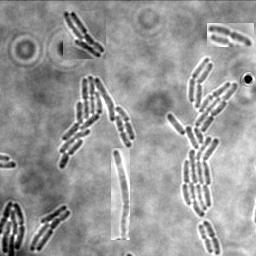Dividing: (111, 148, 130, 240), (207, 23, 254, 47), (204, 219, 222, 255), (199, 223, 215, 253)
Microcolony: (167, 57, 238, 216), (59, 75, 136, 169), (63, 11, 106, 59), (30, 204, 72, 251), (1, 200, 26, 255)
